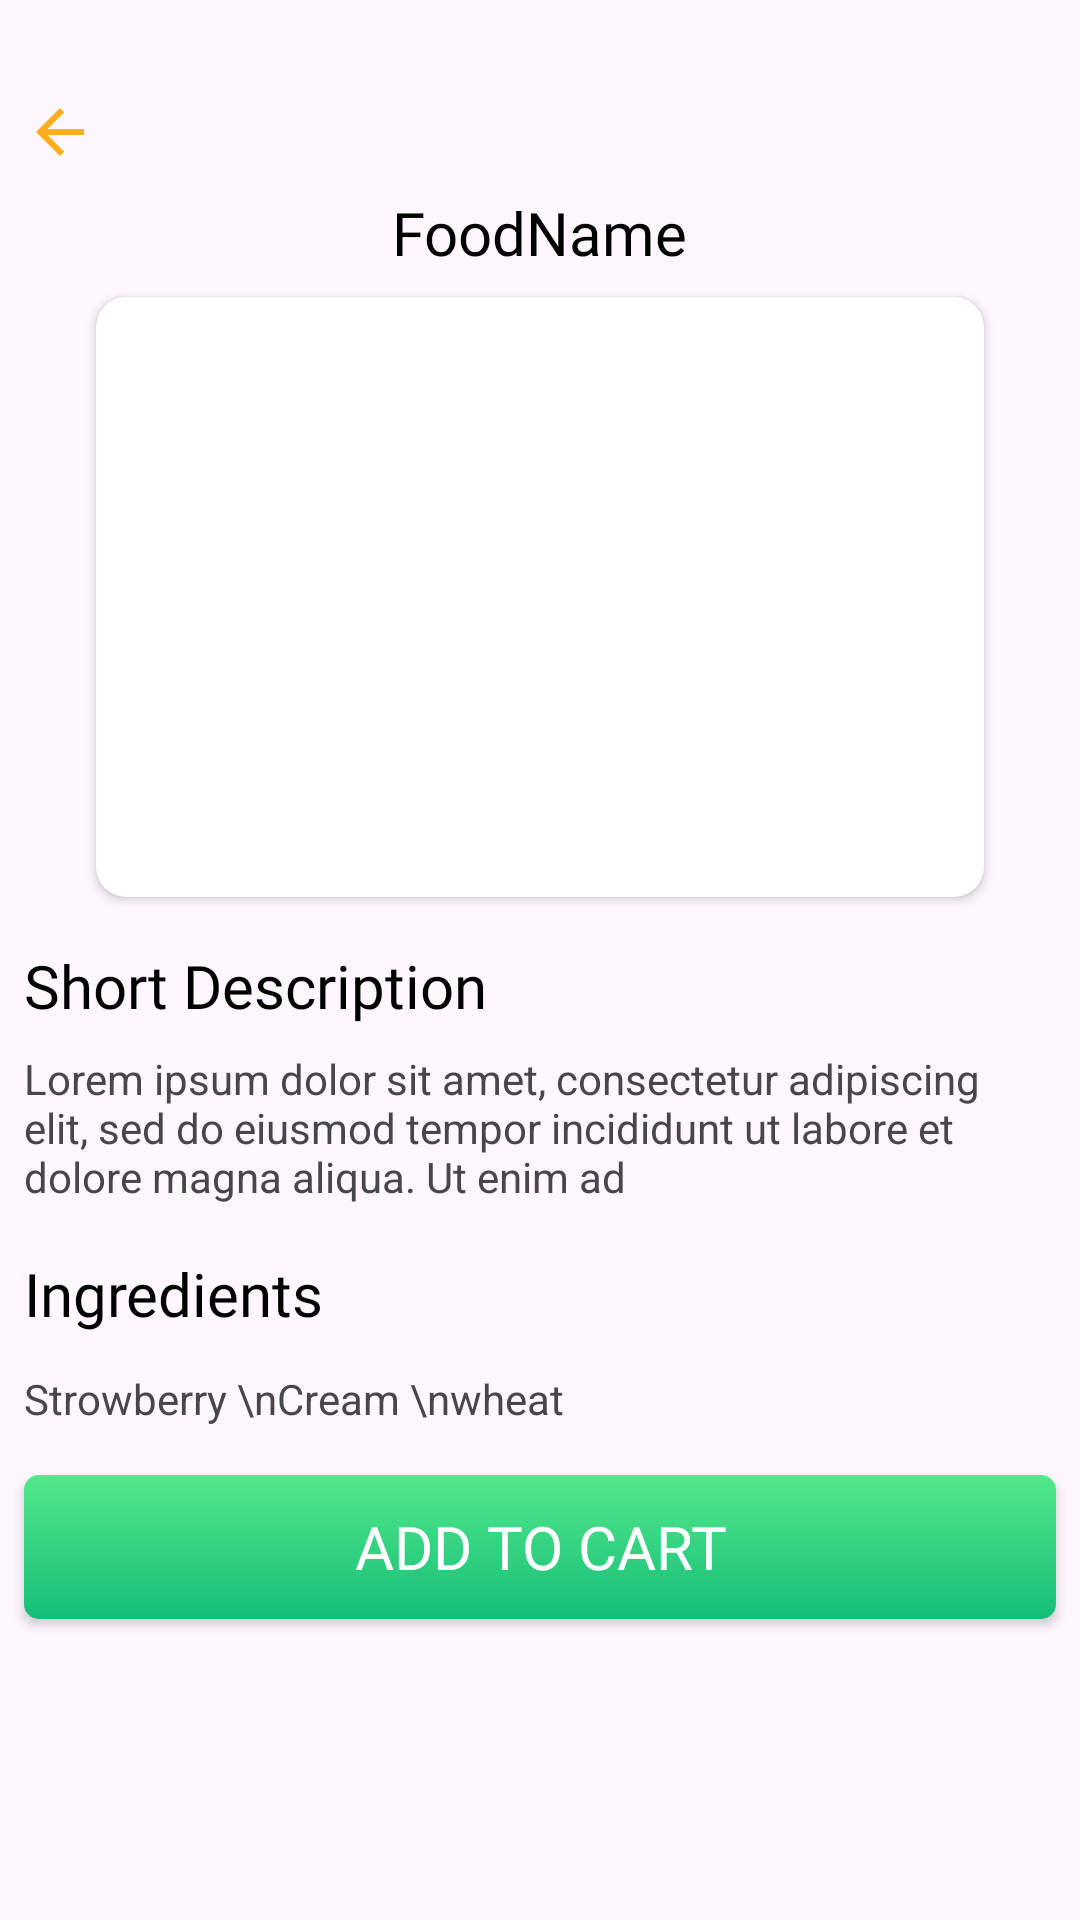

Where to tap for icons on this 1080x1920 app screen, as [x,y]:
arrow left: [60,132]
